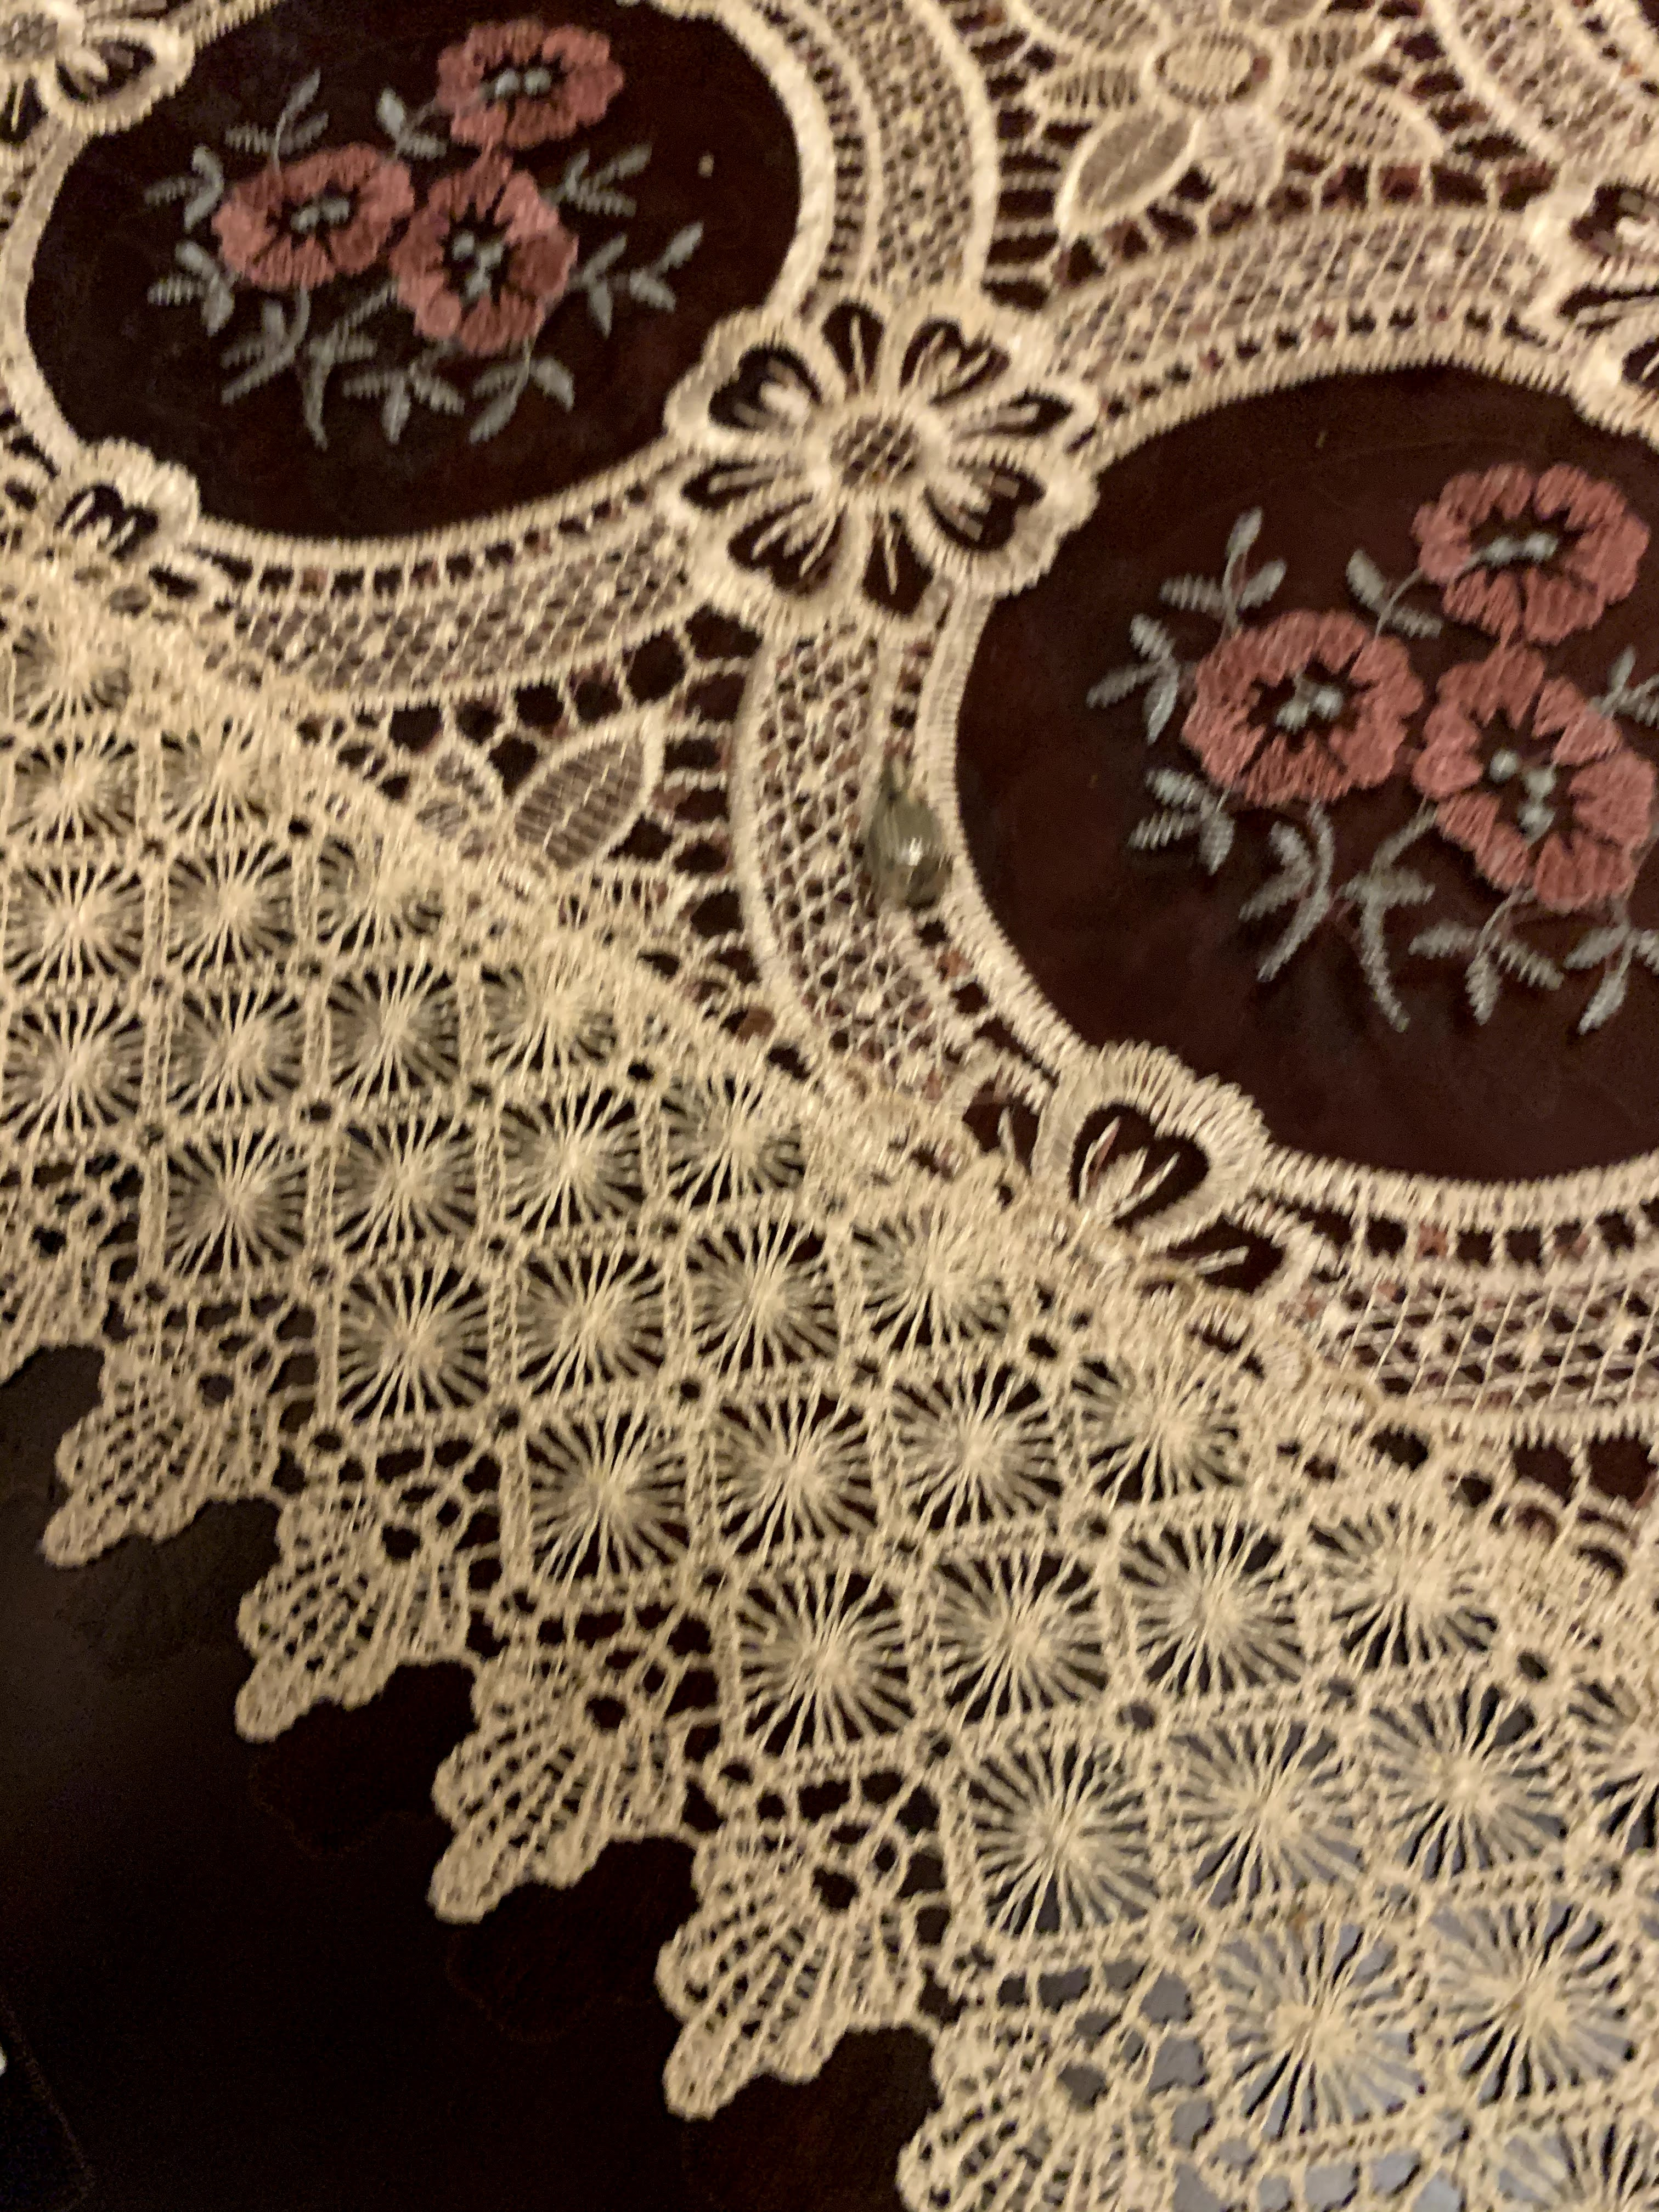Space-debris-small: (833, 759, 995, 918)
